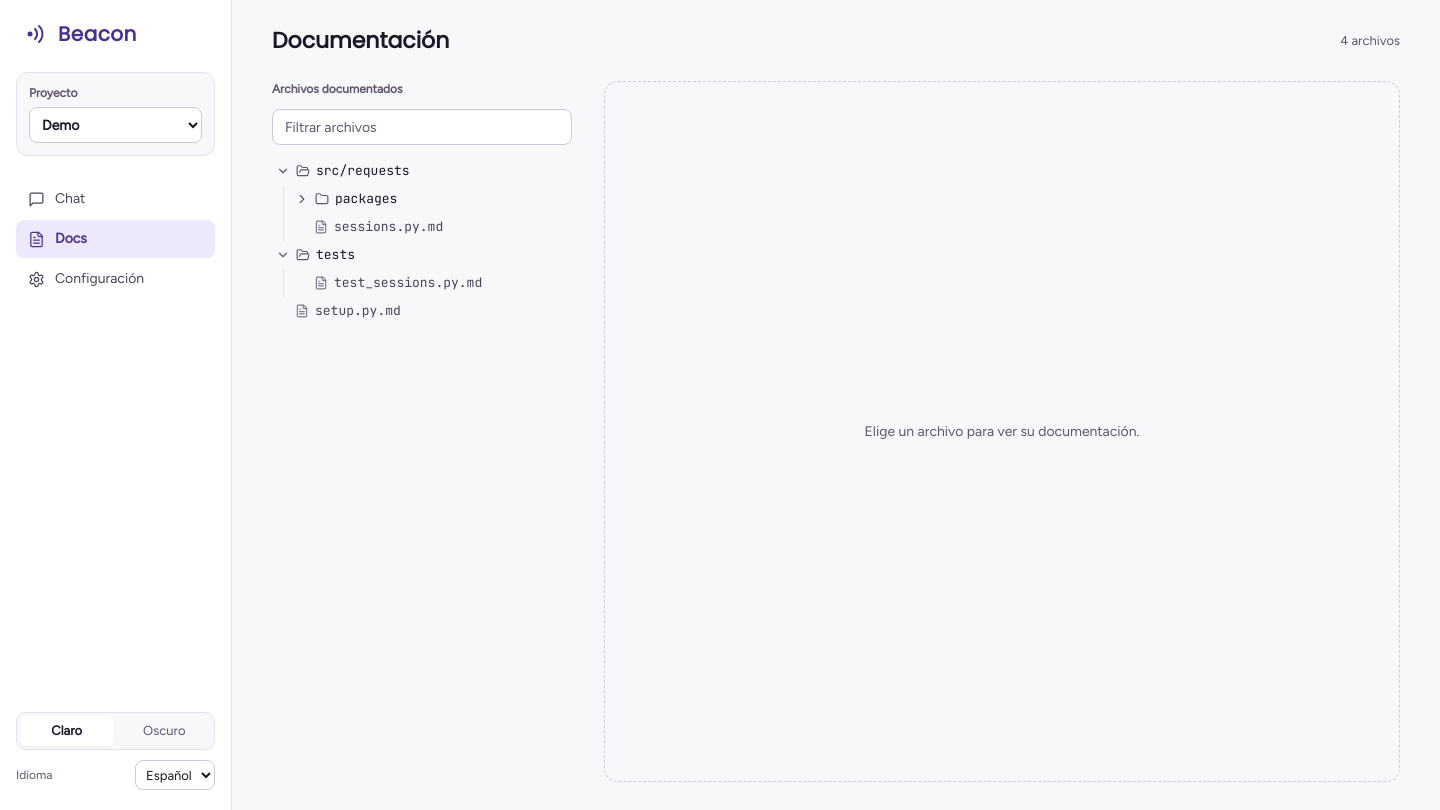
Scenario: documentación: árbol › agrupa por carpetas plegables y deja cerradas las anidadas
Expected: the button with aria-label "src/requests/sessions.py.md" is shown, top-left (291, 213), bottom-right (572, 241)
Expected: the button "setup.py.md" is shown, top-left (272, 297), bottom-right (572, 325)
Click the button "packages" at x=366, y=199, box top-left (291, 185), bottom-right (572, 213)
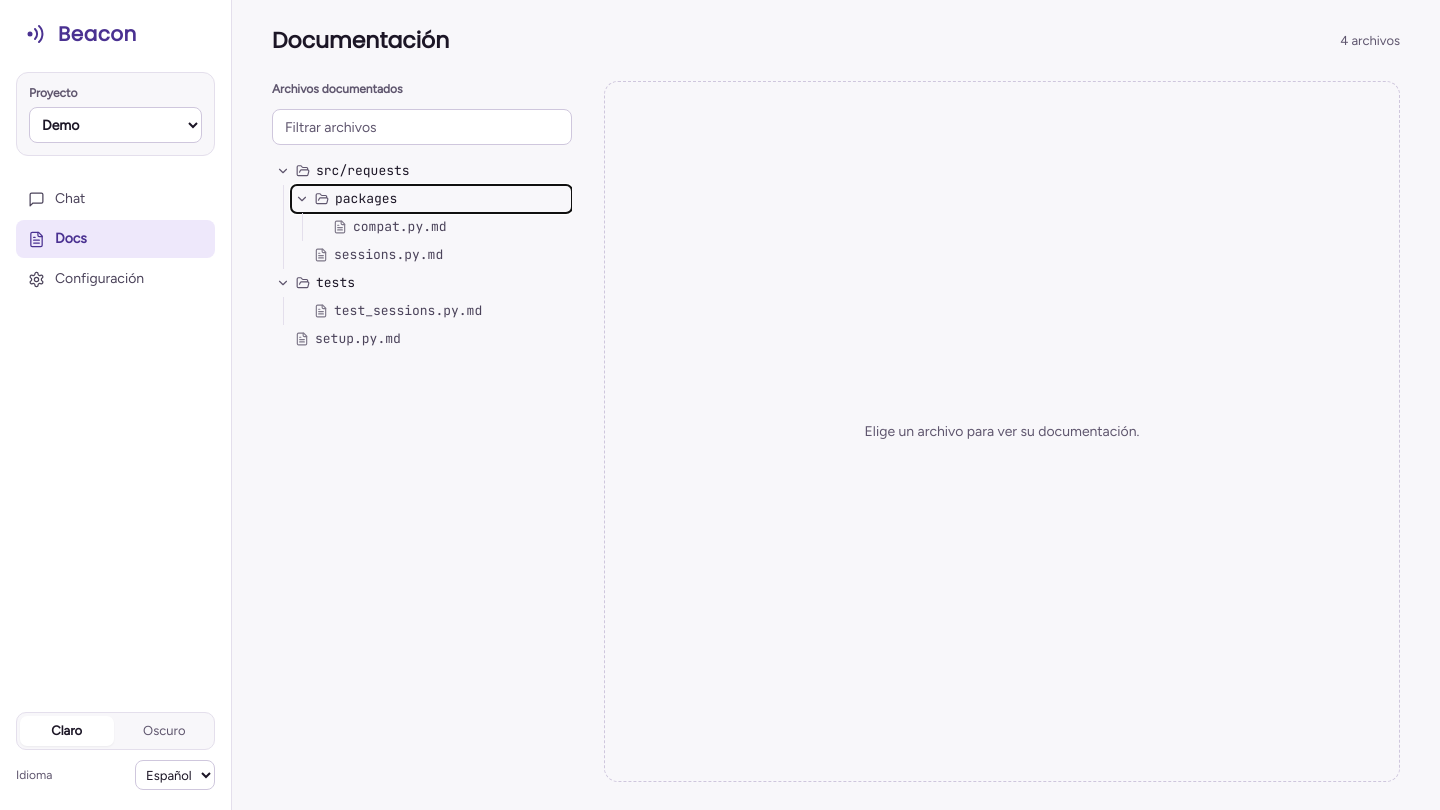
Now the button with aria-label "src/requests/packages/compat.py.md" is shown, box top-left (310, 213), bottom-right (572, 241)
Click the button "src/requests" at x=363, y=171, box top-left (272, 157), bottom-right (572, 185)
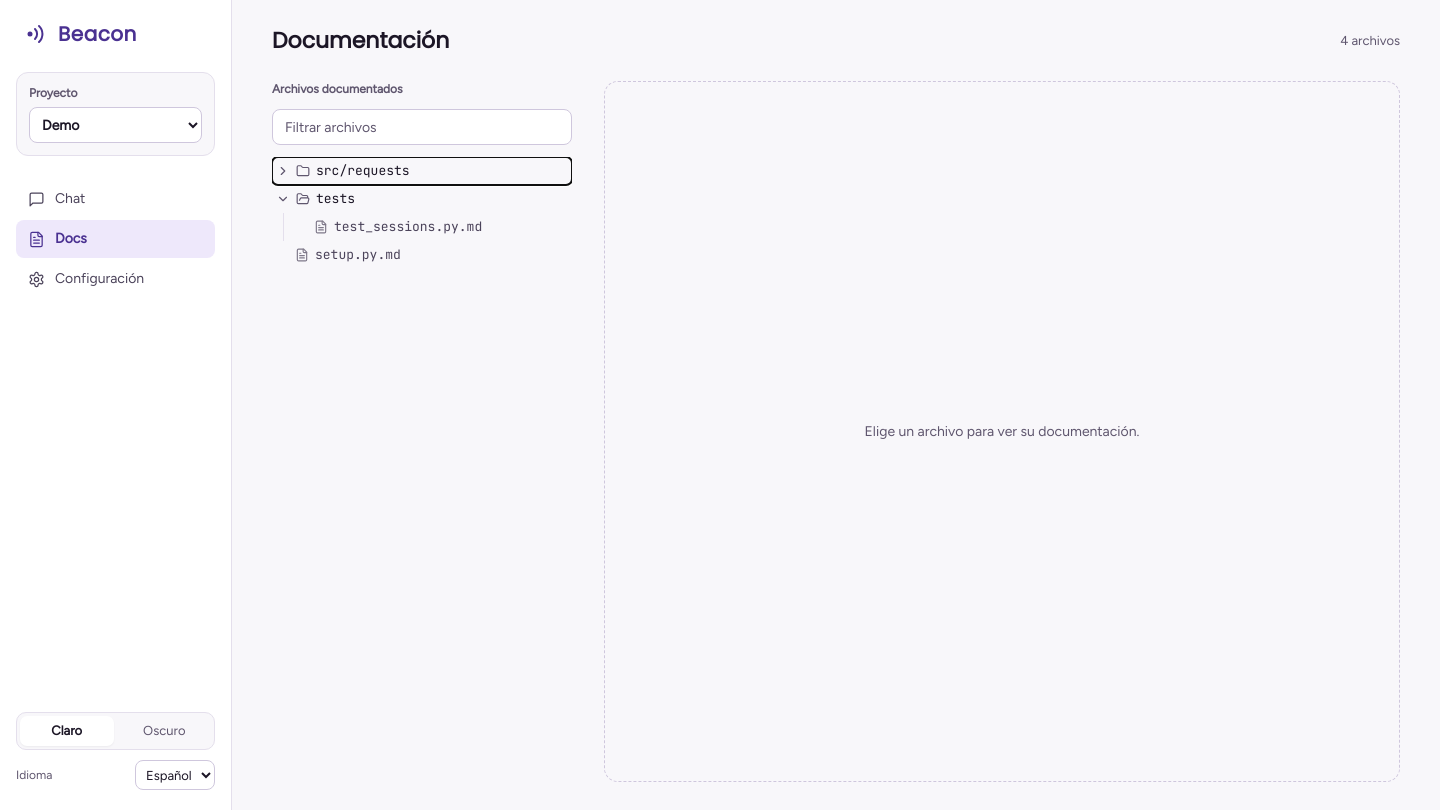
Now the button "src/requests" is collapsed, box top-left (272, 157), bottom-right (572, 185)
